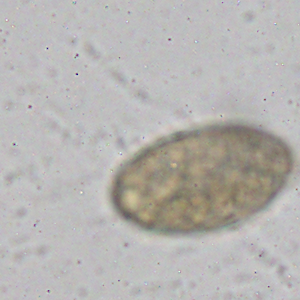Fasciola_hepatica_egg: (108, 119, 294, 236)
